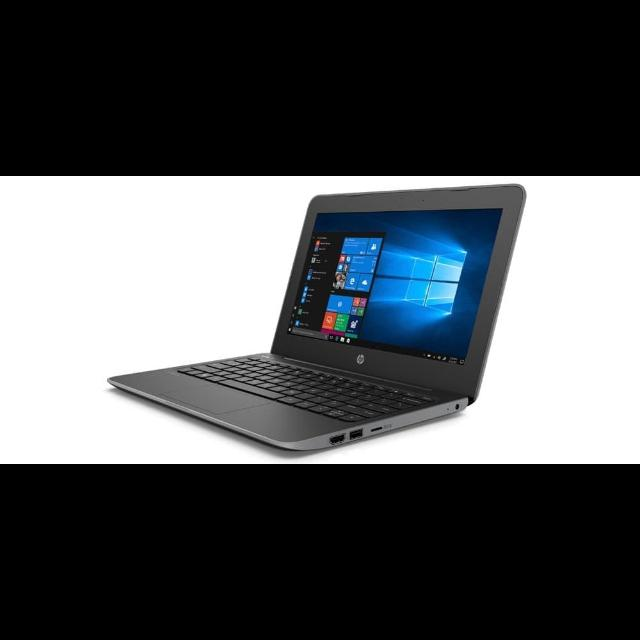laptop: (97, 186, 561, 454)
